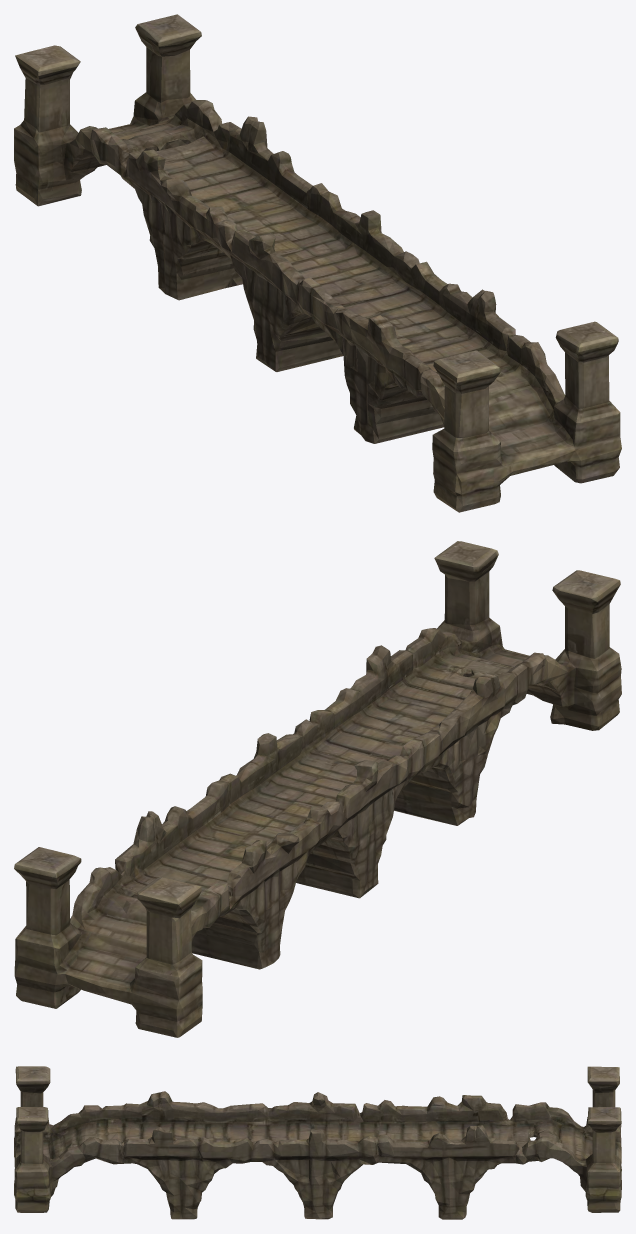
Rendered from bridge_stone_dark_long_lod0.glb.
3 views of the same model, one above another, from view 1: azimuth 30°, elevation 25°; view 2: azimuth 150°, elevation 25°; view 3: azimuth 270°, elevation 25° (orthographic). The views are drawn at different scales.
Parts seen in each view (by area): view 1: bridge_stone_dark_long_lod0; view 2: bridge_stone_dark_long_lod0; view 3: bridge_stone_dark_long_lod0.
Part boxes in pixels (x1,y1,x2,y2): bridge_stone_dark_long_lod0: [14, 14, 621, 512]; bridge_stone_dark_long_lod0: [14, 541, 621, 1037]; bridge_stone_dark_long_lod0: [14, 1066, 621, 1219].
Bounding box in the file's own units: 1.31 × 1.2 × 6.
1 material, 1 textured.
